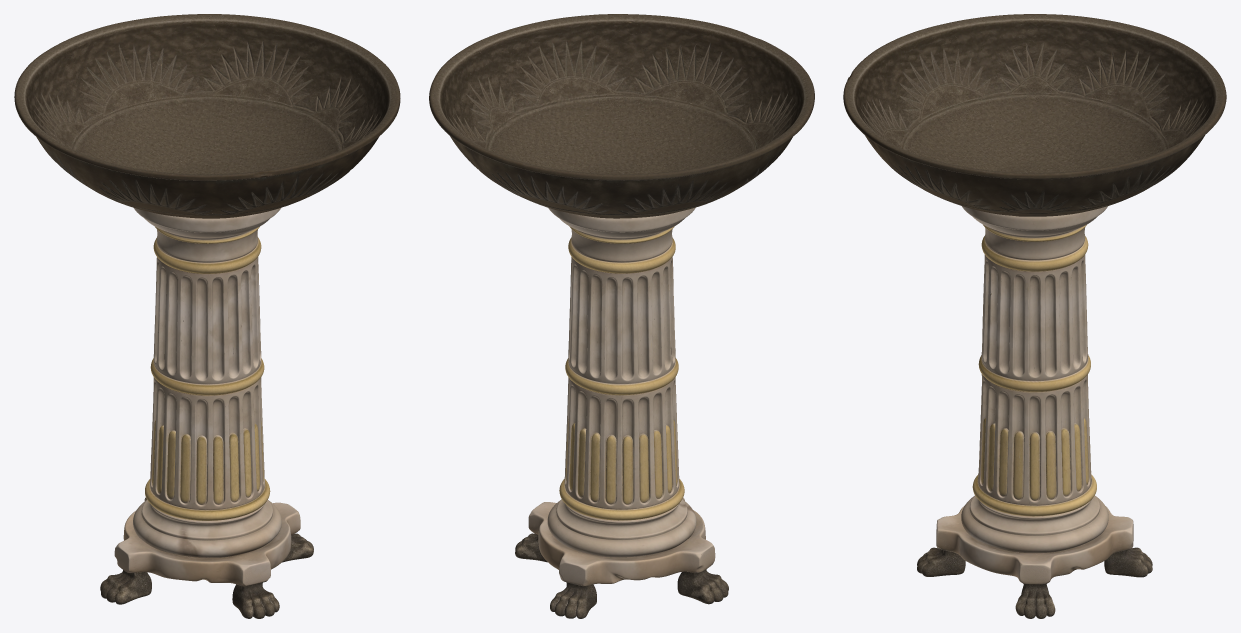
Rendered from Brasero.glb.
3 views of the same model, side by side, from view 1: azimuth 30°, elevation 25°; view 2: azimuth 150°, elevation 25°; view 3: azimuth 270°, elevation 25° (orthographic).
Size of the model in its own units: 1.39 by 1.9 by 1.39.
1 material, 1 textured.
